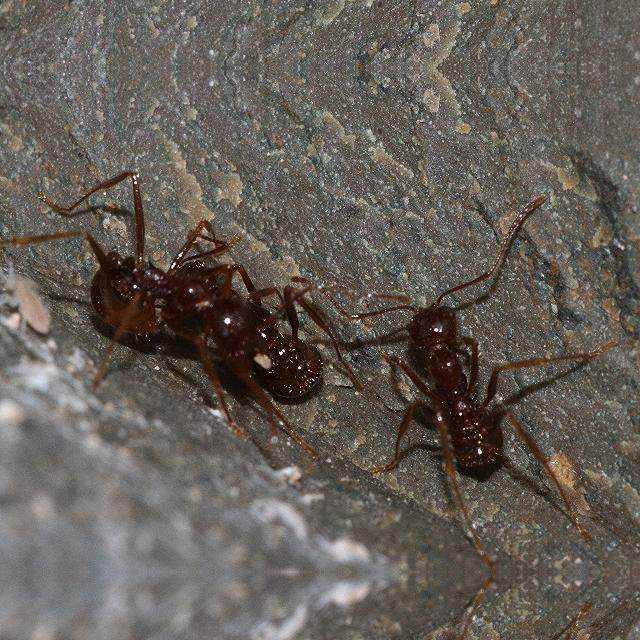Apheanogaster: (54, 193, 360, 419), (366, 268, 540, 487), (78, 210, 212, 346)
